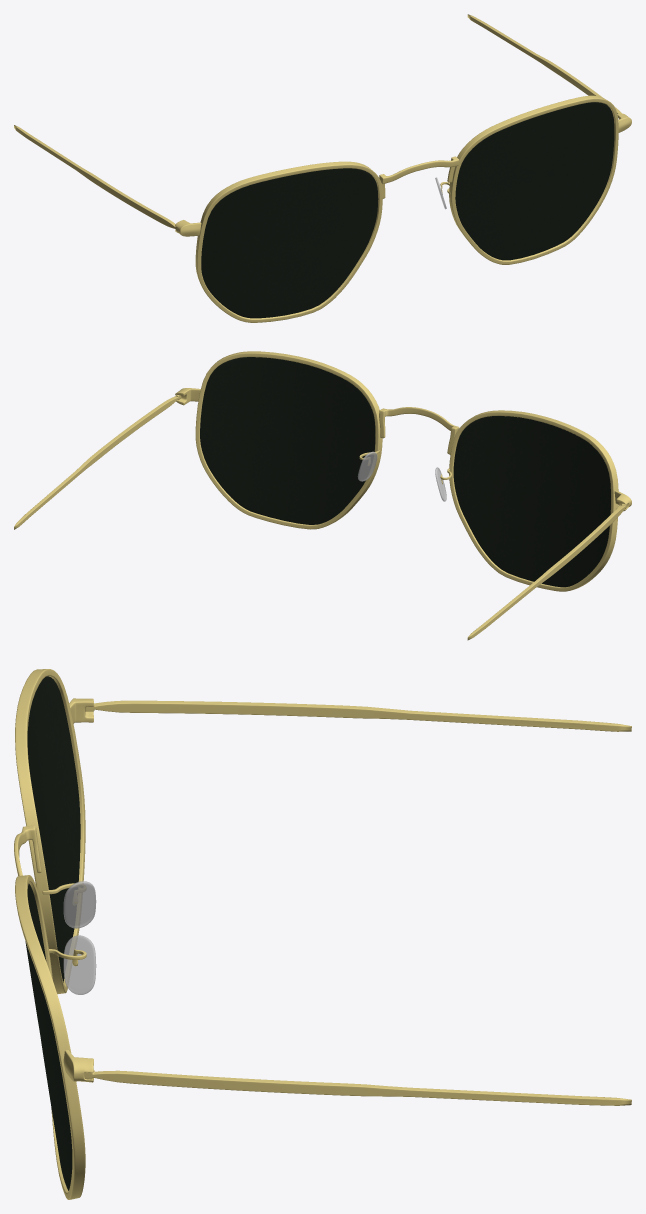
File: HEXAGONAL_app_GLB.glb
3 views of the same model, one above another, from view 1: azimuth 30°, elevation 25°; view 2: azimuth 150°, elevation 25°; view 3: azimuth 270°, elevation 25° (orthographic). The views are drawn at different scales.
Parts seen in each view (by area): view 1: Lentes, aramacao; view 2: Lentes, aramacao, Ponte; view 3: aramacao, Lentes, Ponte.
Boxes of the visible parts, bbox=[...] form: Lentes: bbox=[201, 102, 614, 318]; aramacao: bbox=[14, 14, 631, 322]; Lentes: bbox=[200, 357, 610, 587]; aramacao: bbox=[14, 351, 631, 640]; Ponte: bbox=[357, 451, 446, 501]; aramacao: bbox=[14, 669, 631, 1199]; Lentes: bbox=[25, 676, 80, 1190]; Ponte: bbox=[63, 881, 96, 994].
Size of the model in its own units: 0.1579 by 0.0519 by 0.1083.
Materials: 3 (3 with a texture image).
